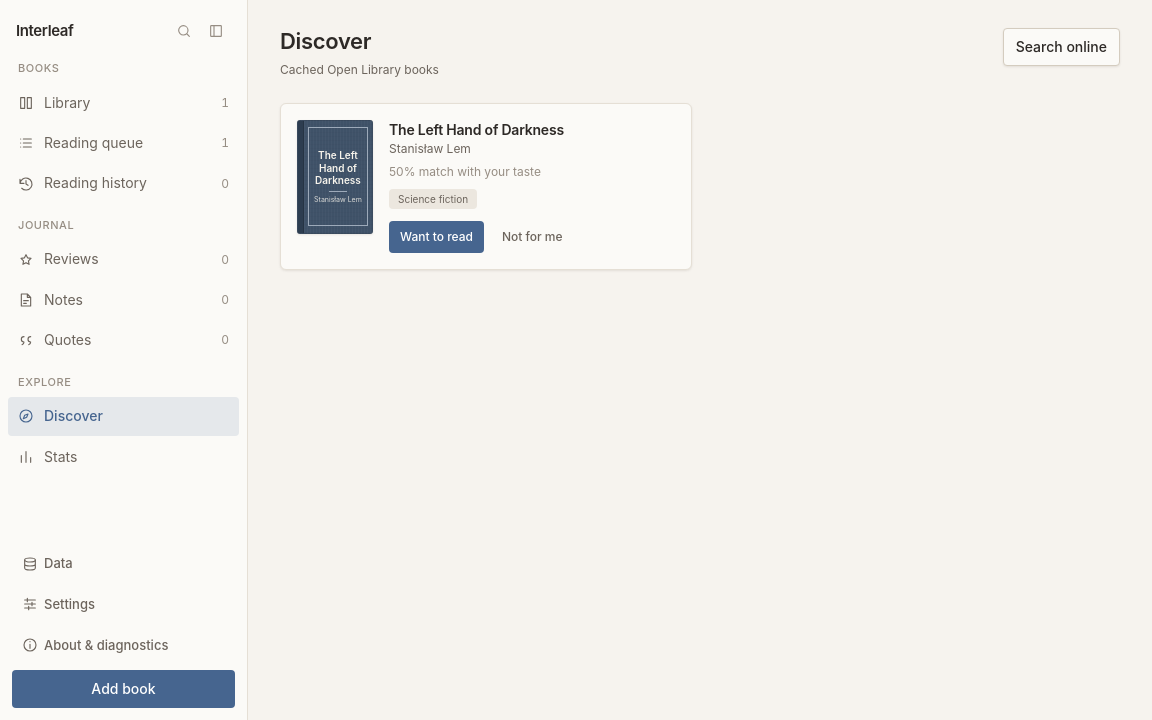
Test: advanced recommendations › explains Advanced in Settings without changing the recommendation mode
Click the button "Settings" at point(124, 604), box [12, 588, 235, 621]
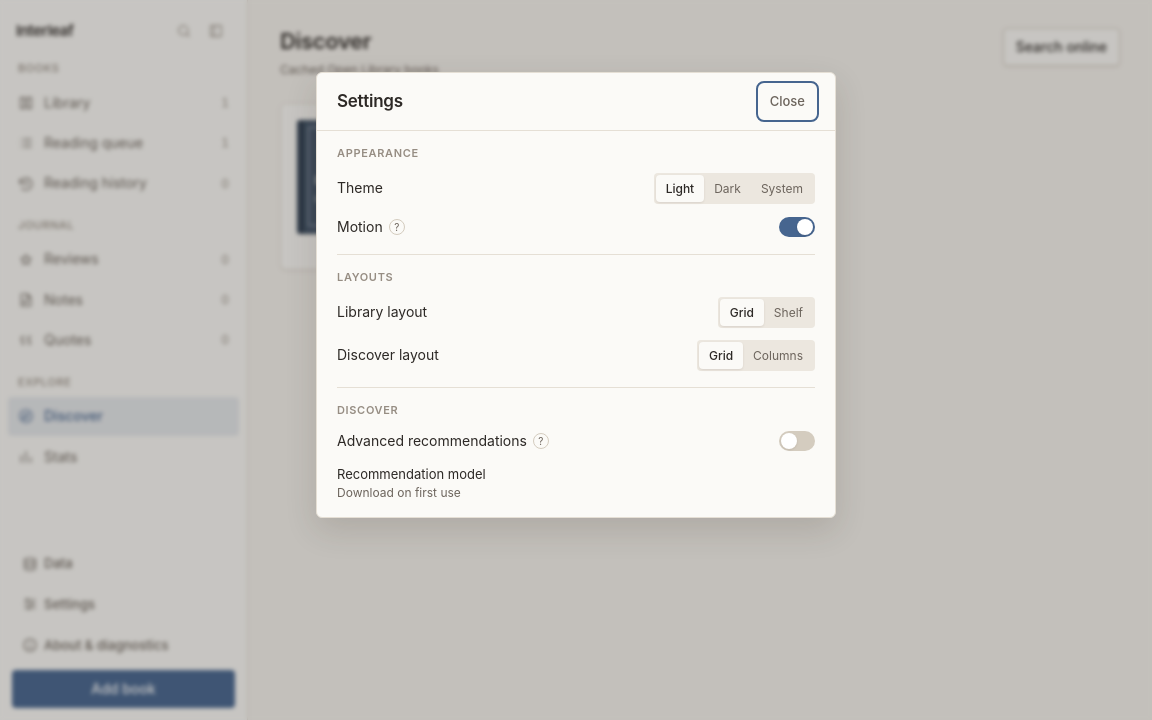
Expected: the switch named "Advanced recommendations" in the row of "Advanced recommendations" is shown, [779, 431, 815, 451]
Press Escape
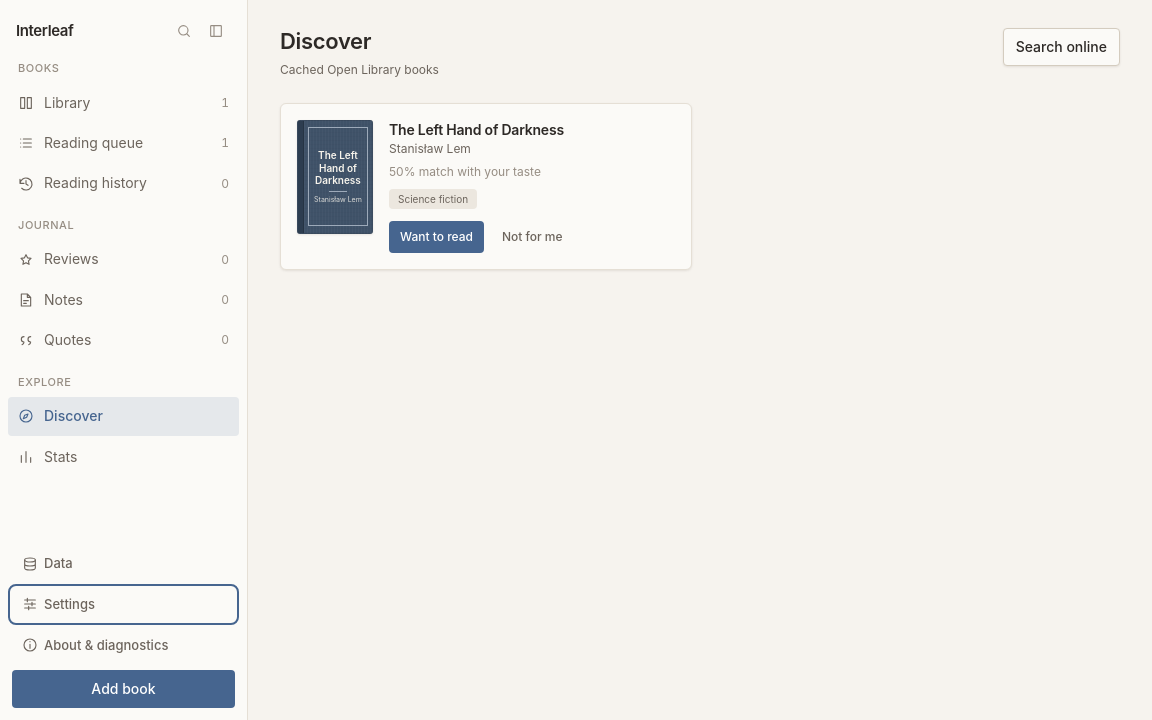
Expected: the dialog is gone
